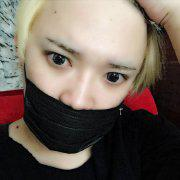WRONG: (21, 35, 133, 147)
